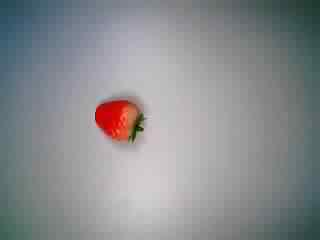strawberry: (85, 91, 151, 153)
